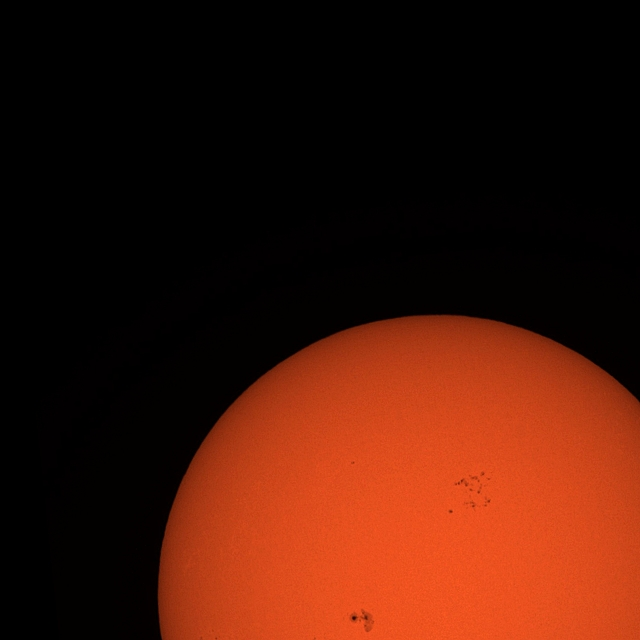sunspot: (454, 470, 492, 509), (349, 608, 376, 634), (350, 460, 356, 465), (448, 509, 453, 514)
